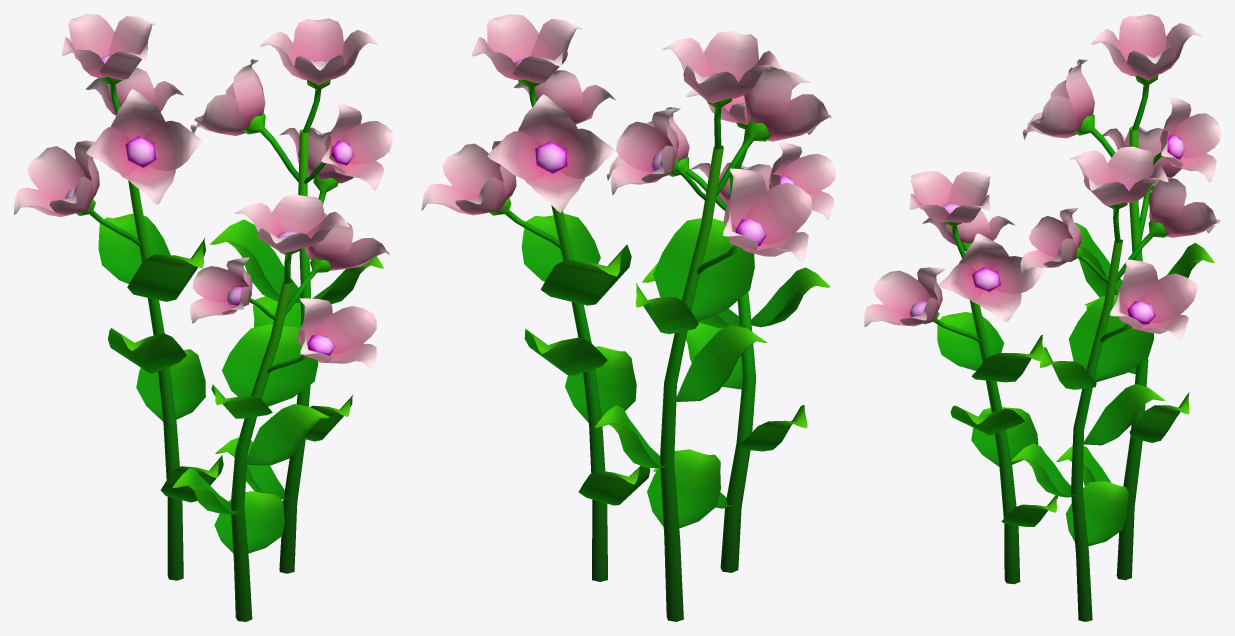
File: Flower16.fbx
3 renders of one model, left to right at view 1: azimuth 30°, elevation 25°; view 2: azimuth 150°, elevation 25°; view 3: azimuth 270°, elevation 25°, orthographic. The views are drawn at different scales.
Parts seen in each view (by area): view 1: 04_BalloonFlower; view 2: 04_BalloonFlower; view 3: 04_BalloonFlower.
Boxes of the visible parts, box(x1,y1,x2,y2) form: 04_BalloonFlower: box(14, 14, 392, 621); 04_BalloonFlower: box(421, 14, 835, 621); 04_BalloonFlower: box(864, 14, 1220, 621).
Bounding box in the file's own units: 78.04 × 117 × 72.91.
